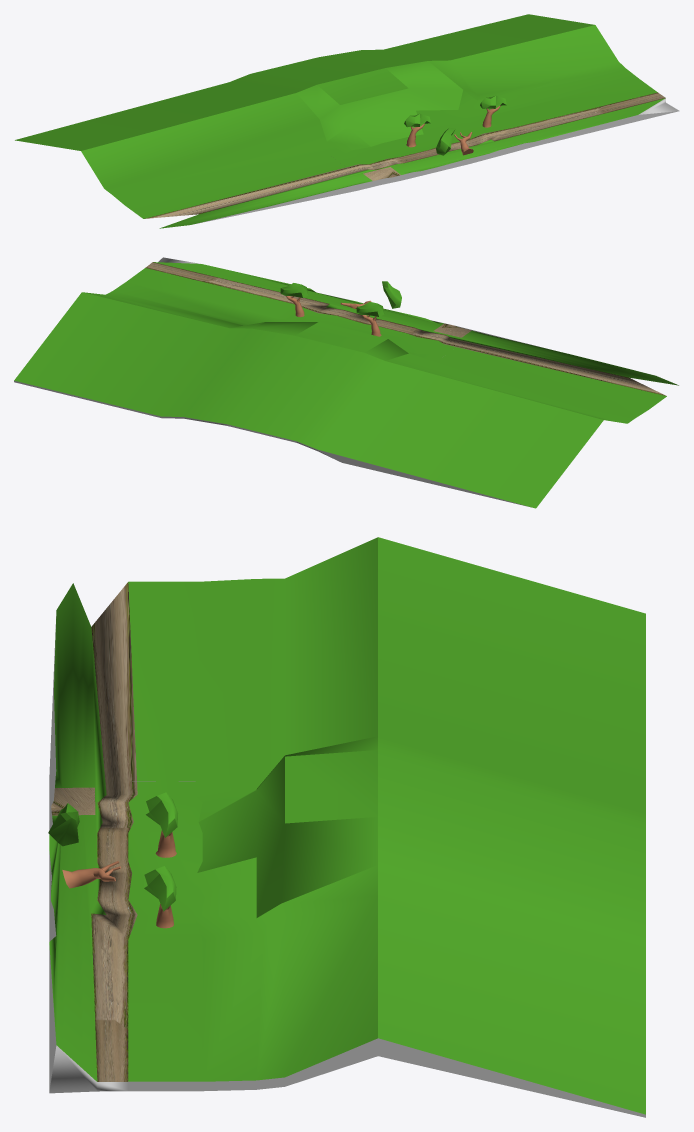
File: scenetest_treerotate.fbx
3 views of the same model, one above another, from view 1: azimuth 30°, elevation 25°; view 2: azimuth 150°, elevation 25°; view 3: azimuth 270°, elevation 25° (orthographic). The views are drawn at different scales.
Visible parts, largest first — view 1: Mesh (3); view 2: Mesh (3); view 3: Mesh (3), Mesh (2) (3), Mesh (2), Mesh (2) (2).
Boxes of the visible parts, x1=… form: Mesh (3): x1=15, y1=14, x2=679, y2=228; Mesh (3): x1=14, y1=257, x2=678, y2=508; Mesh (3): x1=49, y1=537, x2=645, y2=1117; Mesh (2) (3): x1=144, y1=866, x2=176, y2=911; Mesh (2): x1=145, y1=792, x2=177, y2=837; Mesh (2) (2): x1=48, y1=803, x2=79, y2=846.
Bounding box in the file's own units: 16140 × 1460 × 8083.
Materials: 5 (4 with a texture image).
